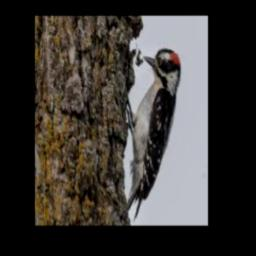Woodpecker: (126, 48, 182, 223)
